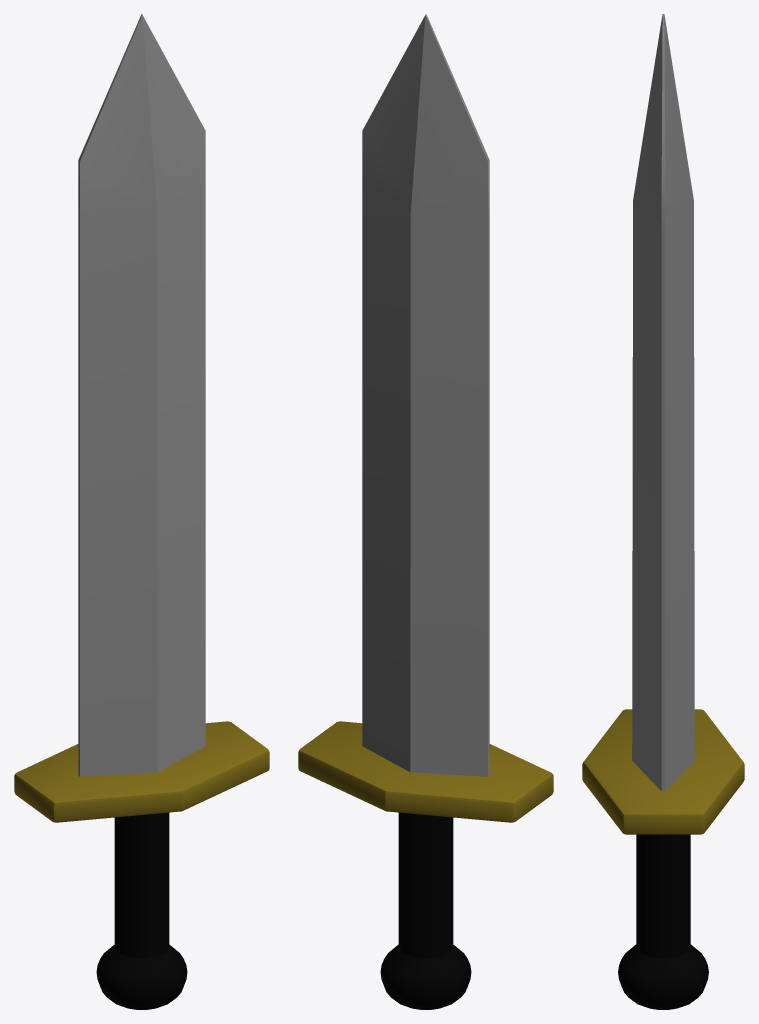
File: OneHand_Sword_Iron.glb
The picture shows the model from 3 angles, left to right: view 1: azimuth 30°, elevation 25°; view 2: azimuth 150°, elevation 25°; view 3: azimuth 270°, elevation 25°; orthographic projection.
Visible parts, largest first — view 1: OneHand_Sword_Iron; view 2: OneHand_Sword_Iron; view 3: OneHand_Sword_Iron.
Boxes of the visible parts, bbox=[...] form: OneHand_Sword_Iron: bbox=[14, 14, 269, 1009]; OneHand_Sword_Iron: bbox=[298, 14, 553, 1009]; OneHand_Sword_Iron: bbox=[582, 14, 744, 1009].
Size of the model in its own units: 1.73 by 7.51 by 1.12.
